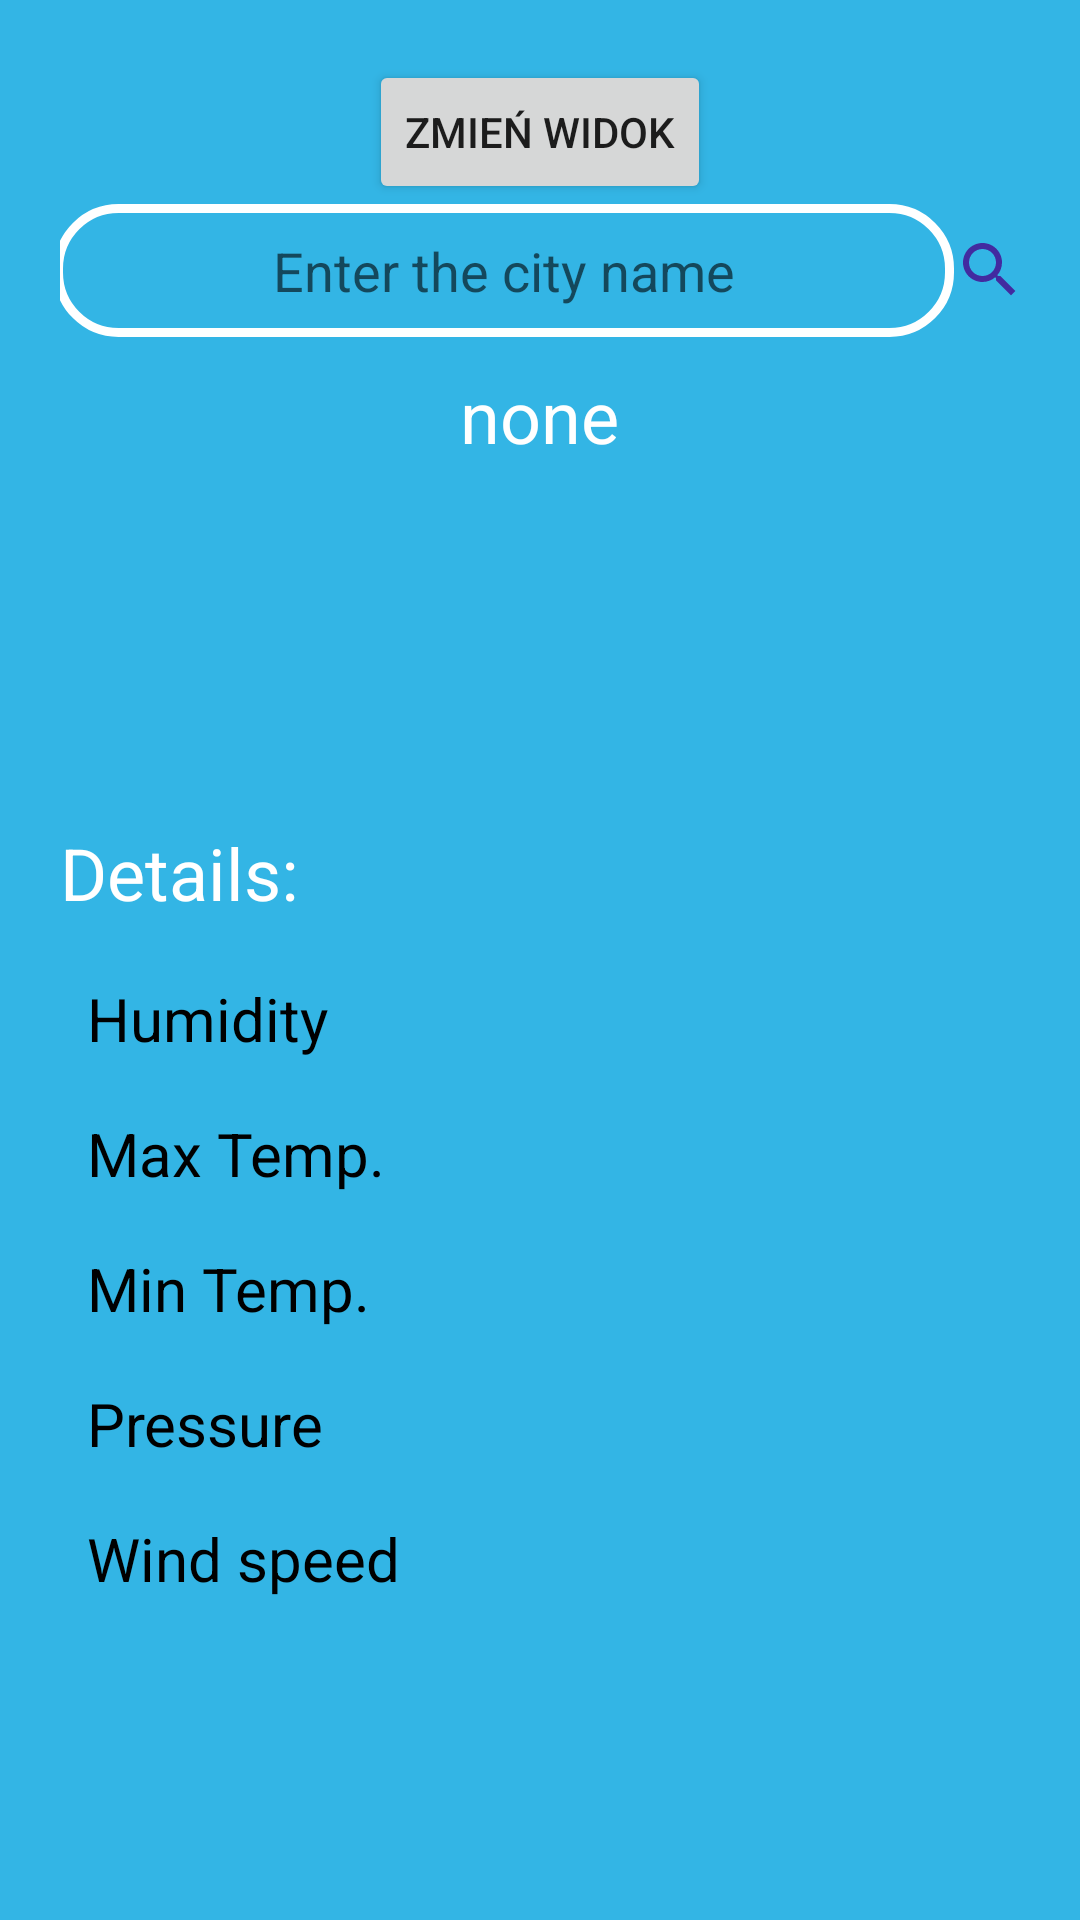

Icons on this 1080*1920 Android screen, each with its box as bbox(x1, y1, x2, y2):
search: bbox(963, 243, 1015, 295)
